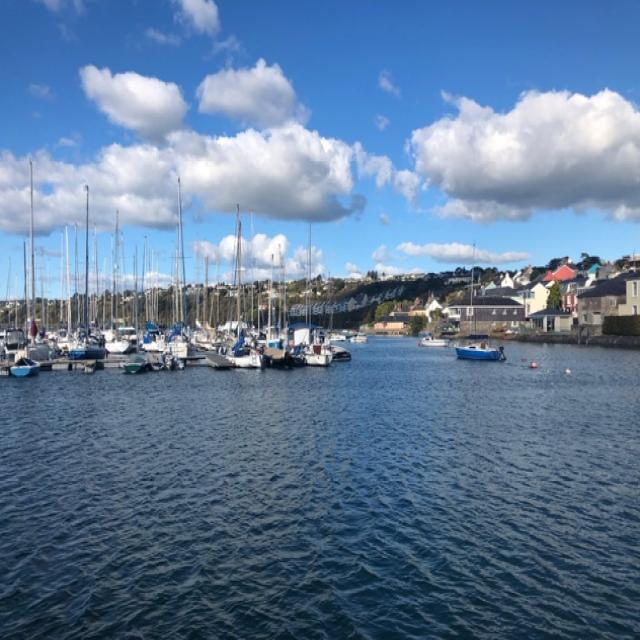houseboat: (279, 335, 339, 375), (456, 326, 524, 359), (203, 342, 263, 375)
